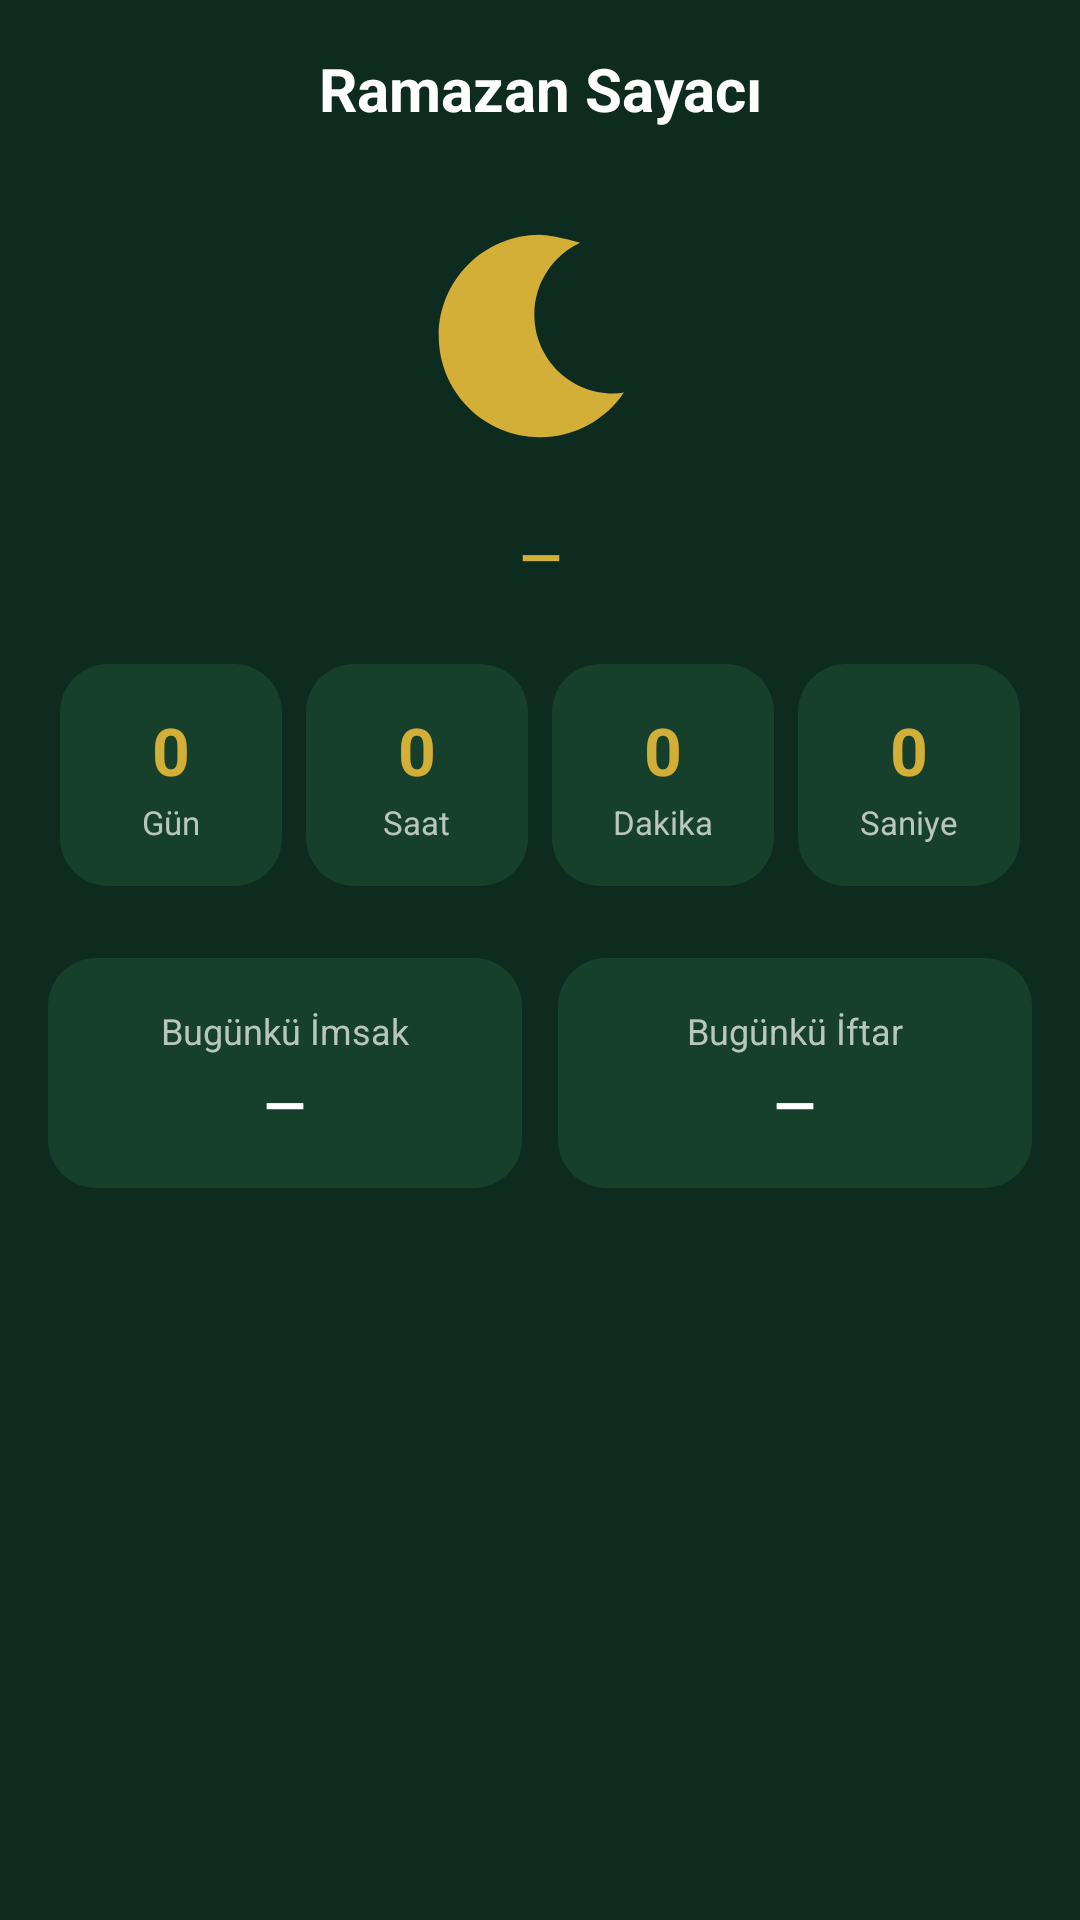

Point at icon controls on the screen. Image size 1080x1920, points as (x,y).
moon: (531,336)
